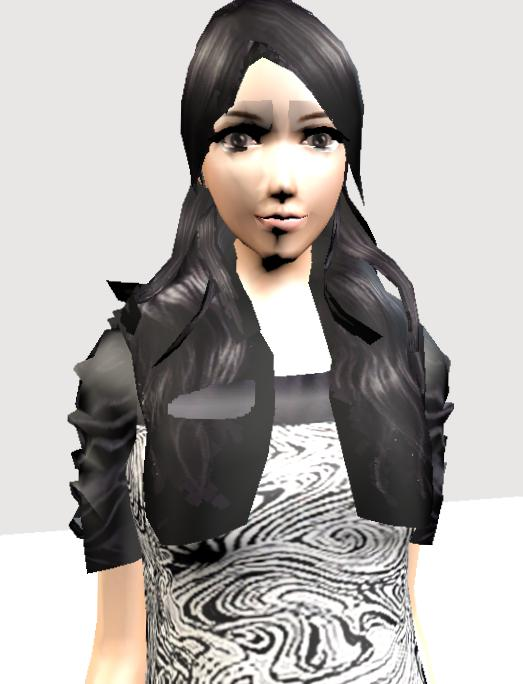clip: (161, 376, 265, 423)
